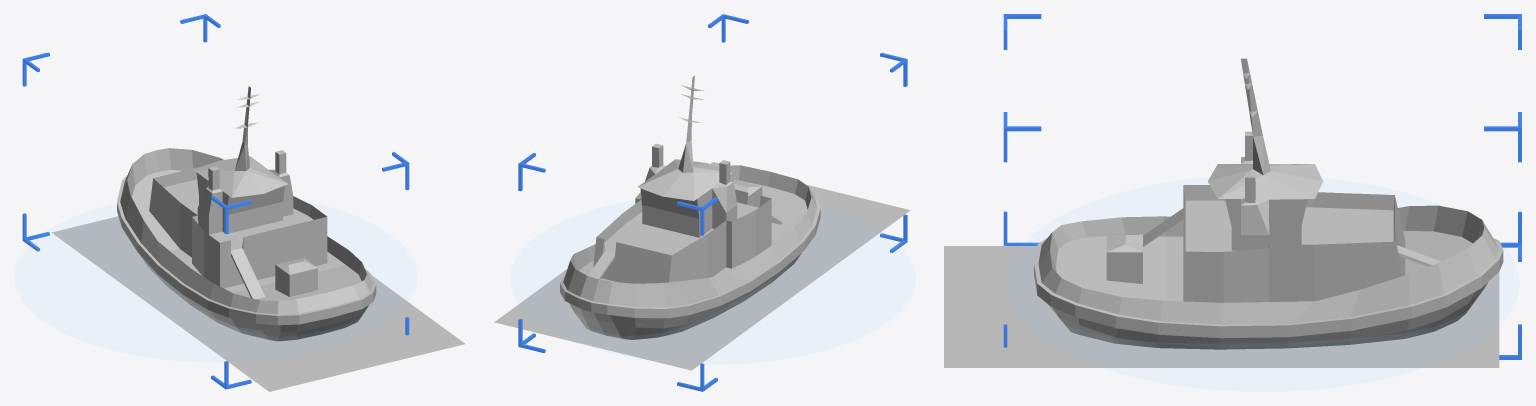
Rendered from Tug.glb.
3 views of the same model, side by side, from view 1: azimuth 30°, elevation 25°; view 2: azimuth 150°, elevation 25°; view 3: azimuth 270°, elevation 25° (orthographic). The views are drawn at different scales.
Parts seen in each view (by area): view 1: AIS_Tug-A002, SurfaceGraphic_whiteGlow006, BoundingBox; view 2: AIS_Tug-A002, SurfaceGraphic_whiteGlow006, BoundingBox; view 3: AIS_Tug-A002, SurfaceGraphic_whiteGlow006, BoundingBox.
Boxes of the visible parts, x1=… form: AIS_Tug-A002: x1=117, y1=86, x2=376, y2=341; SurfaceGraphic_whiteGlow006: x1=51, y1=216, x2=464, y2=391; BoundingBox: x1=22, y1=14, x2=409, y2=389; AIS_Tug-A002: x1=560, y1=76, x2=820, y2=339; SurfaceGraphic_whiteGlow006: x1=494, y1=162, x2=910, y2=370; BoundingBox: x1=518, y1=14, x2=907, y2=391; AIS_Tug-A002: x1=1034, y1=58, x2=1503, y2=349; SurfaceGraphic_whiteGlow006: x1=944, y1=246, x2=1499, y2=367; BoundingBox: x1=1003, y1=14, x2=1521, y2=359.
Bounding box in the file's own units: 22.45 × 12.57 × 25.21.
